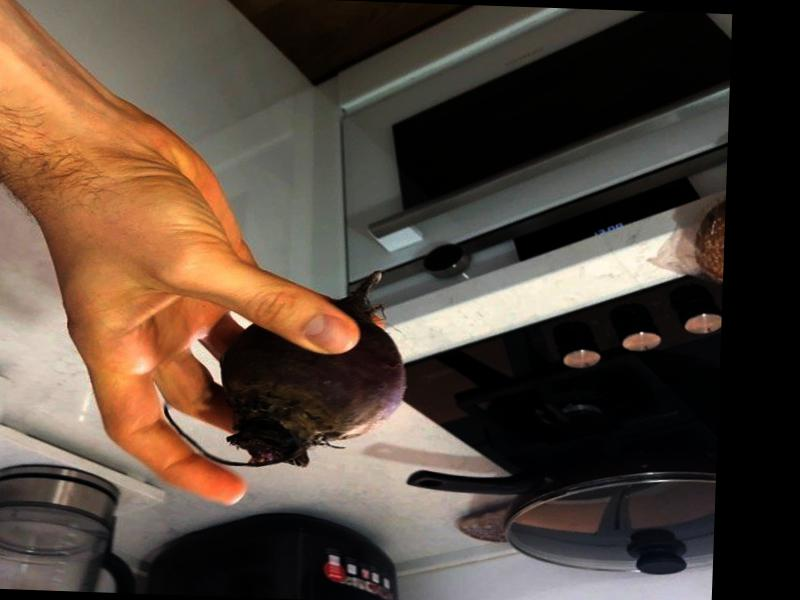Beet: (165, 264, 408, 471)
